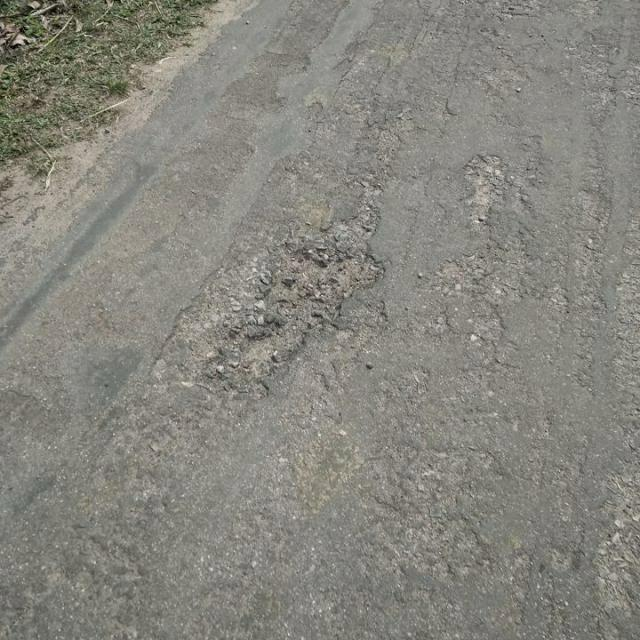Pothole: (210, 241, 388, 393), (461, 151, 511, 222)
